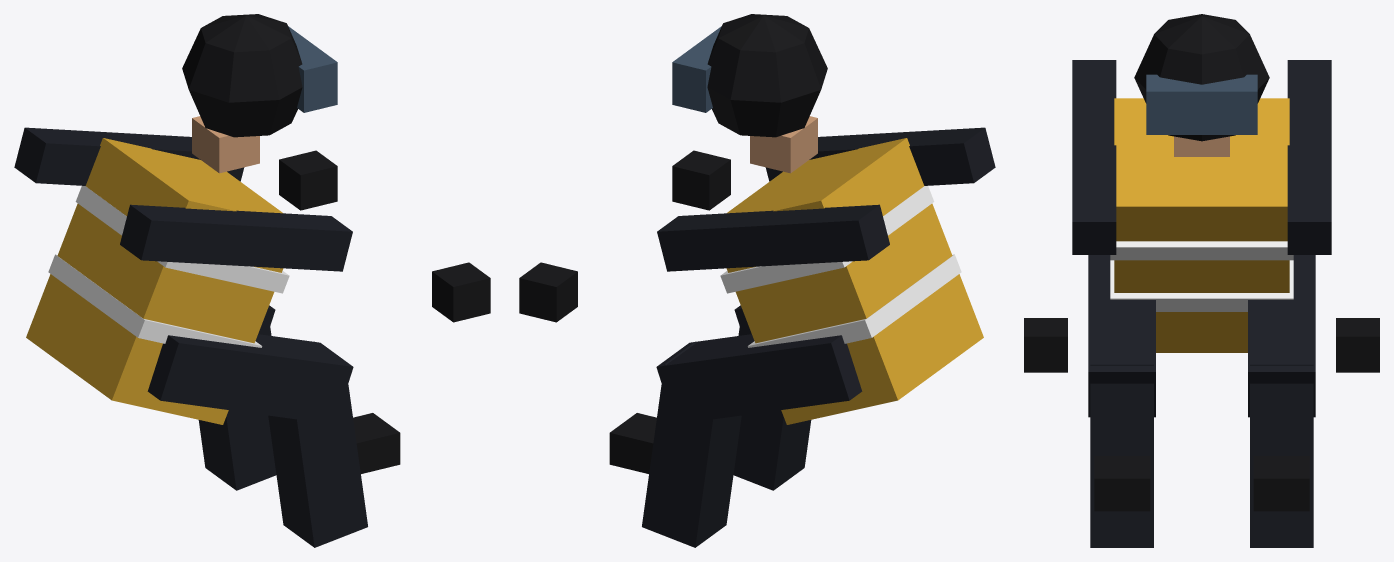
Rendered from jetski_rider_negro.obj.
3 renders of one model, left to right at view 1: azimuth 30°, elevation 25°; view 2: azimuth 150°, elevation 25°; view 3: azimuth 270°, elevation 25°, orthographic. The views are drawn at different scales.
Visible parts, largest first — view 1: jetski_rider_negro; view 2: jetski_rider_negro; view 3: jetski_rider_negro.
Boxes of the visible parts, x1,y1,x2,y2 form: jetski_rider_negro: [14, 14, 490, 547]; jetski_rider_negro: [519, 14, 995, 547]; jetski_rider_negro: [1024, 14, 1379, 547].
Size of the model in its own units: 0.9894 by 1.4 by 0.893.
